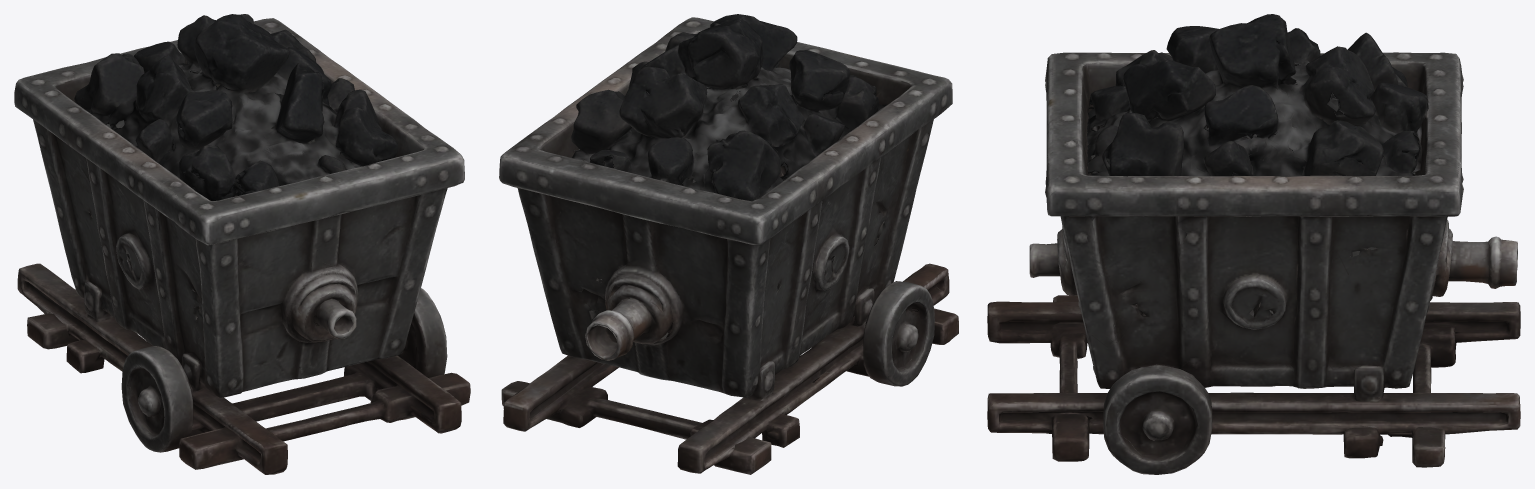
The model's file is delve_slagcart.glb.
3 views of the same model, side by side, from view 1: azimuth 30°, elevation 25°; view 2: azimuth 150°, elevation 25°; view 3: azimuth 270°, elevation 25° (orthographic). The views are drawn at different scales.
Visible parts, largest first — view 1: geometry_0; view 2: geometry_0; view 3: geometry_0.
Part boxes in pixels (bbox=[...]): geometry_0: bbox=[14, 14, 470, 474]; geometry_0: bbox=[499, 14, 958, 474]; geometry_0: bbox=[987, 14, 1520, 474].
Size of the model in its own units: 0.6731 by 0.7975 by 1.
Materials: 1 (1 with a texture image).
